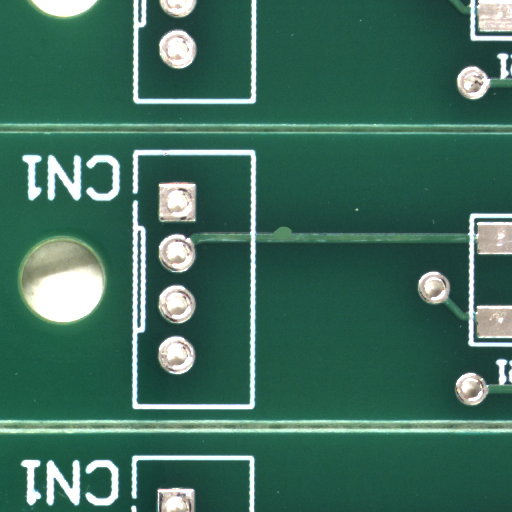Spur: (283, 230, 304, 239)
